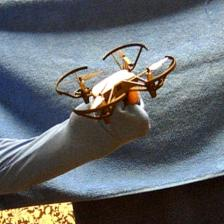drone: (55, 42, 178, 122)
